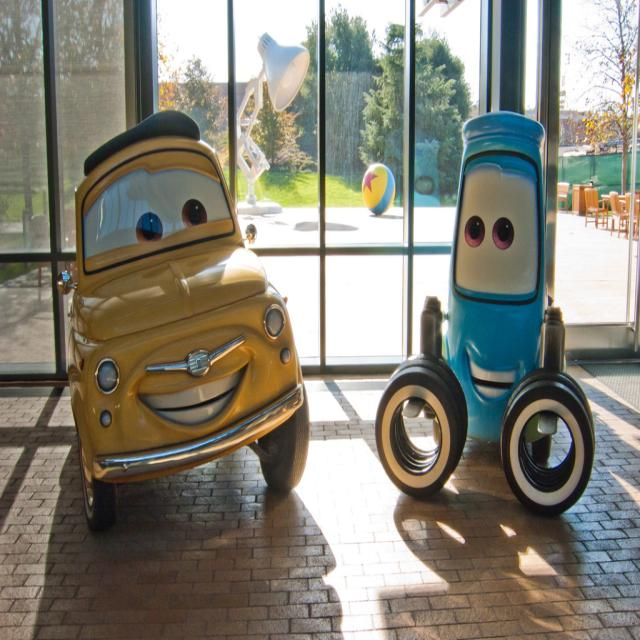car: (51, 108, 312, 537), (372, 101, 595, 523)
